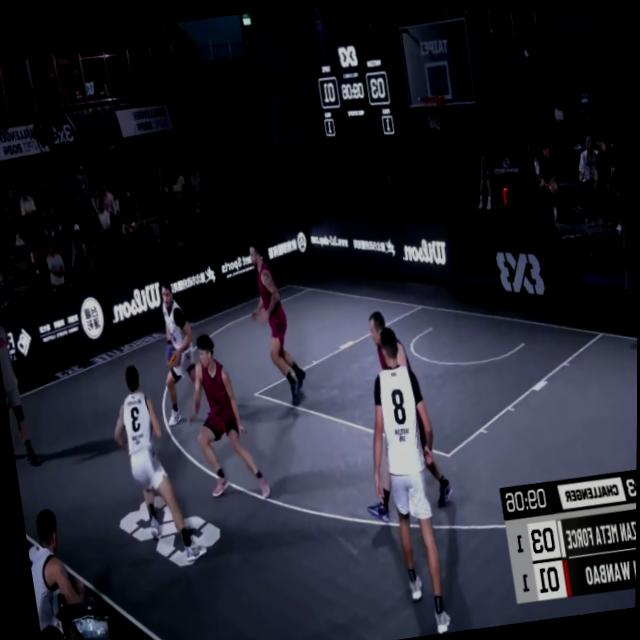ball: (163, 339, 183, 371)
hoop: (416, 87, 450, 136)
player: (352, 320, 463, 639), (336, 297, 462, 533), (103, 356, 211, 570), (181, 328, 268, 508), (243, 237, 310, 406), (146, 270, 214, 429)
